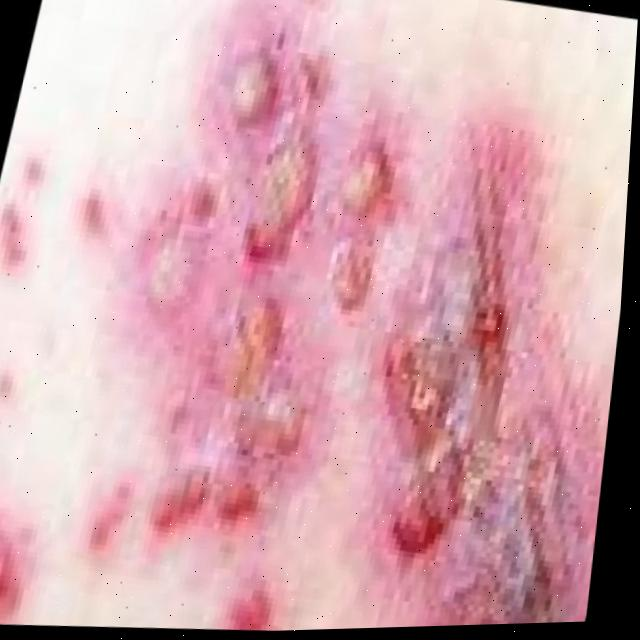Shingles: (0, 50, 636, 640)
